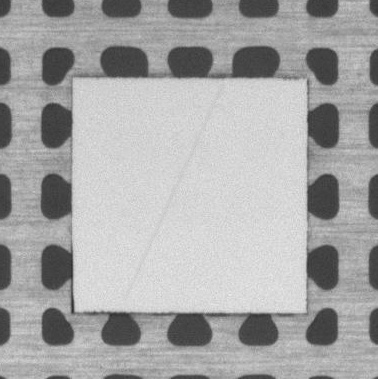DIE_CRACK: (125, 84, 222, 300)
